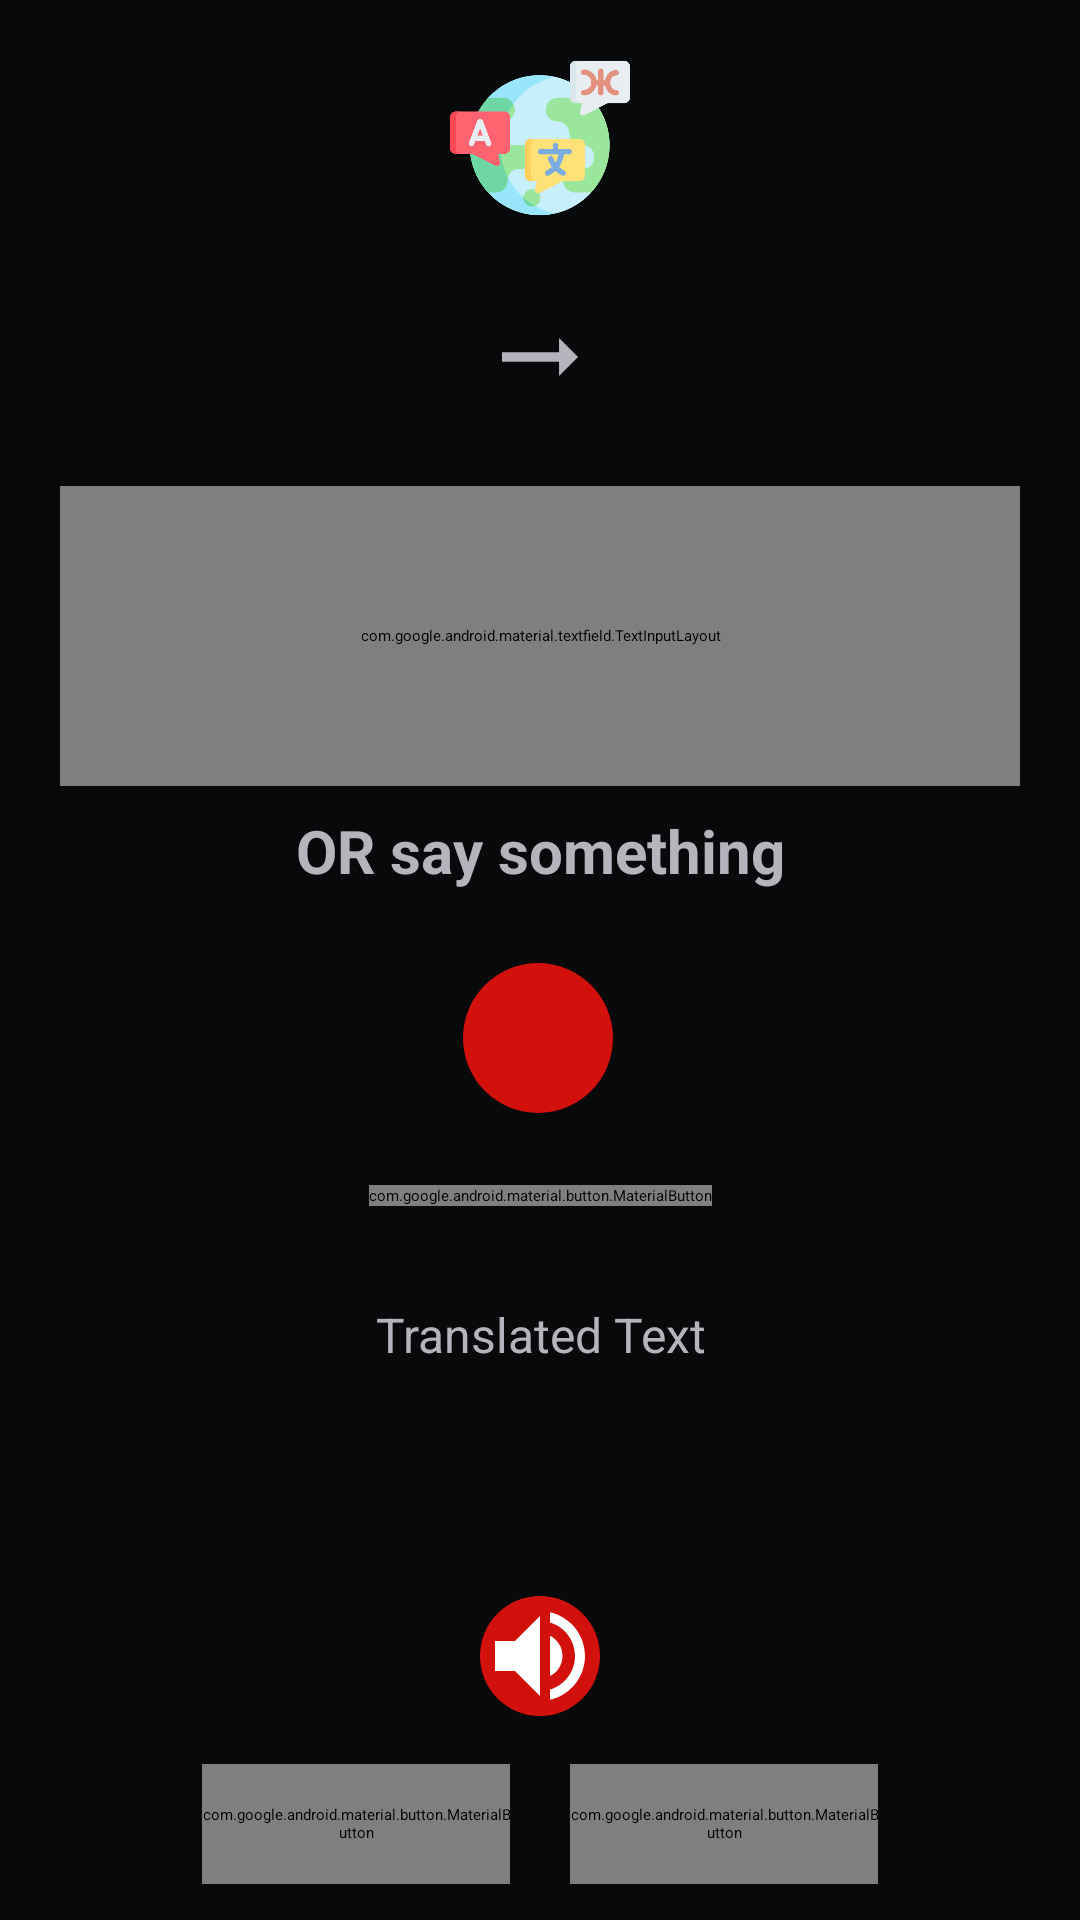

Icons on this 1080w x 1920h Android screen, each with its box as (x1,y1,x2,y2):
language: (450,61,630,215)
right: (502,338,578,376)
volume: (480,1596,600,1716)
